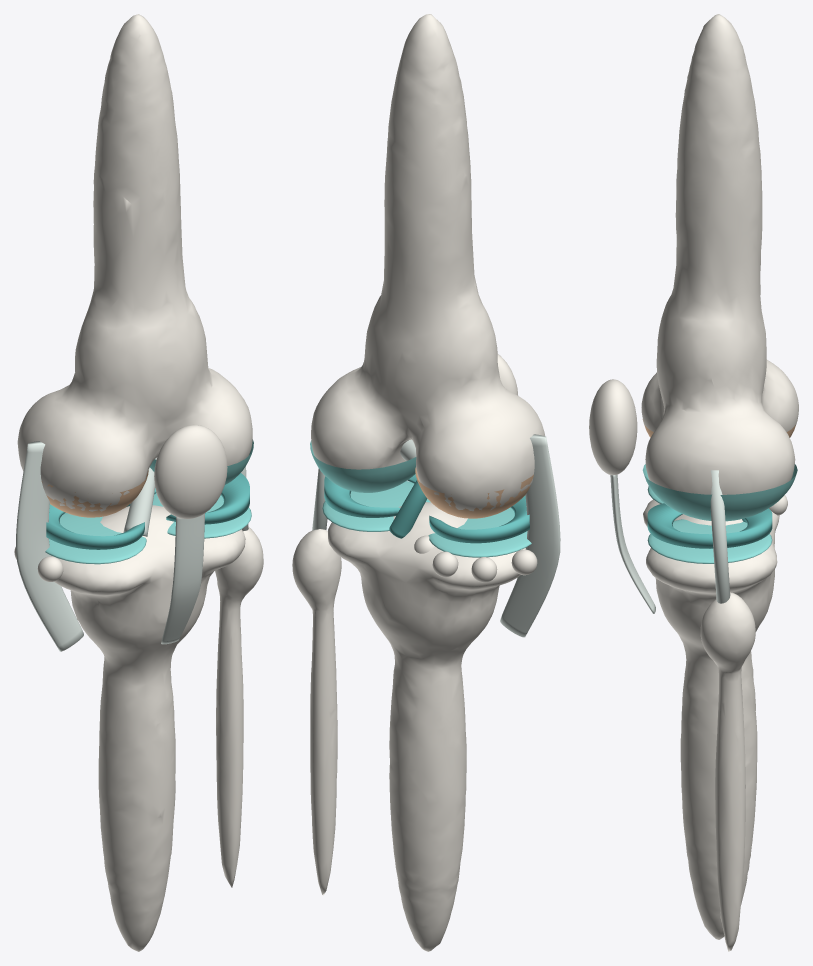
The model's file is knee-oa.glb.
3 views of the same model, side by side, from view 1: azimuth 30°, elevation 25°; view 2: azimuth 150°, elevation 25°; view 3: azimuth 270°, elevation 25° (orthographic).
Visible parts, largest first — view 1: static #eee5d3, lower-leg #eee5d3, static #c7ddd2, lower-leg #49bdb4, lower-leg #258985, static #f2a066; view 2: static #eee5d3, lower-leg #eee5d3, static #c7ddd2, lower-leg #49bdb4, lower-leg #258985, static #49bdb4, static #f2a066, static #258985; view 3: static #eee5d3, lower-leg #eee5d3, static #c7ddd2, static #49bdb4, lower-leg #258985, lower-leg #49bdb4.
Boxes of the visible parts, x1=… form: static #eee5d3: x1=17, y1=14, x2=252, y2=518; lower-leg #eee5d3: x1=14, y1=505, x2=263, y2=951; static #c7ddd2: x1=16, y1=441, x2=248, y2=651; lower-leg #49bdb4: x1=45, y1=493, x2=251, y2=564; lower-leg #258985: x1=46, y1=473, x2=249, y2=549; static #f2a066: x1=41, y1=470, x2=148, y2=517; static #eee5d3: x1=311, y1=14, x2=544, y2=511; lower-leg #eee5d3: x1=292, y1=502, x2=537, y2=951; static #c7ddd2: x1=312, y1=434, x2=560, y2=637; lower-leg #49bdb4: x1=322, y1=481, x2=531, y2=557; lower-leg #258985: x1=324, y1=474, x2=529, y2=543; static #49bdb4: x1=310, y1=440, x2=416, y2=492; static #f2a066: x1=415, y1=467, x2=533, y2=518; static #258985: x1=389, y1=480, x2=427, y2=538; static #eee5d3: x1=589, y1=14, x2=798, y2=494; lower-leg #eee5d3: x1=643, y1=495, x2=787, y2=951; static #c7ddd2: x1=610, y1=470, x2=730, y2=613; static #49bdb4: x1=642, y1=464, x2=797, y2=521; lower-leg #258985: x1=647, y1=503, x2=772, y2=548; lower-leg #49bdb4: x1=647, y1=486, x2=772, y2=563.
Bounding box in the file's own units: 0.2267 × 0.8002 × 0.1648.
